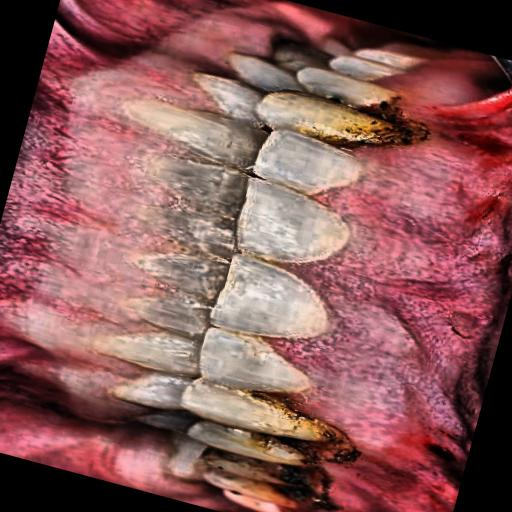Gingivitis: (227, 19, 512, 512)
